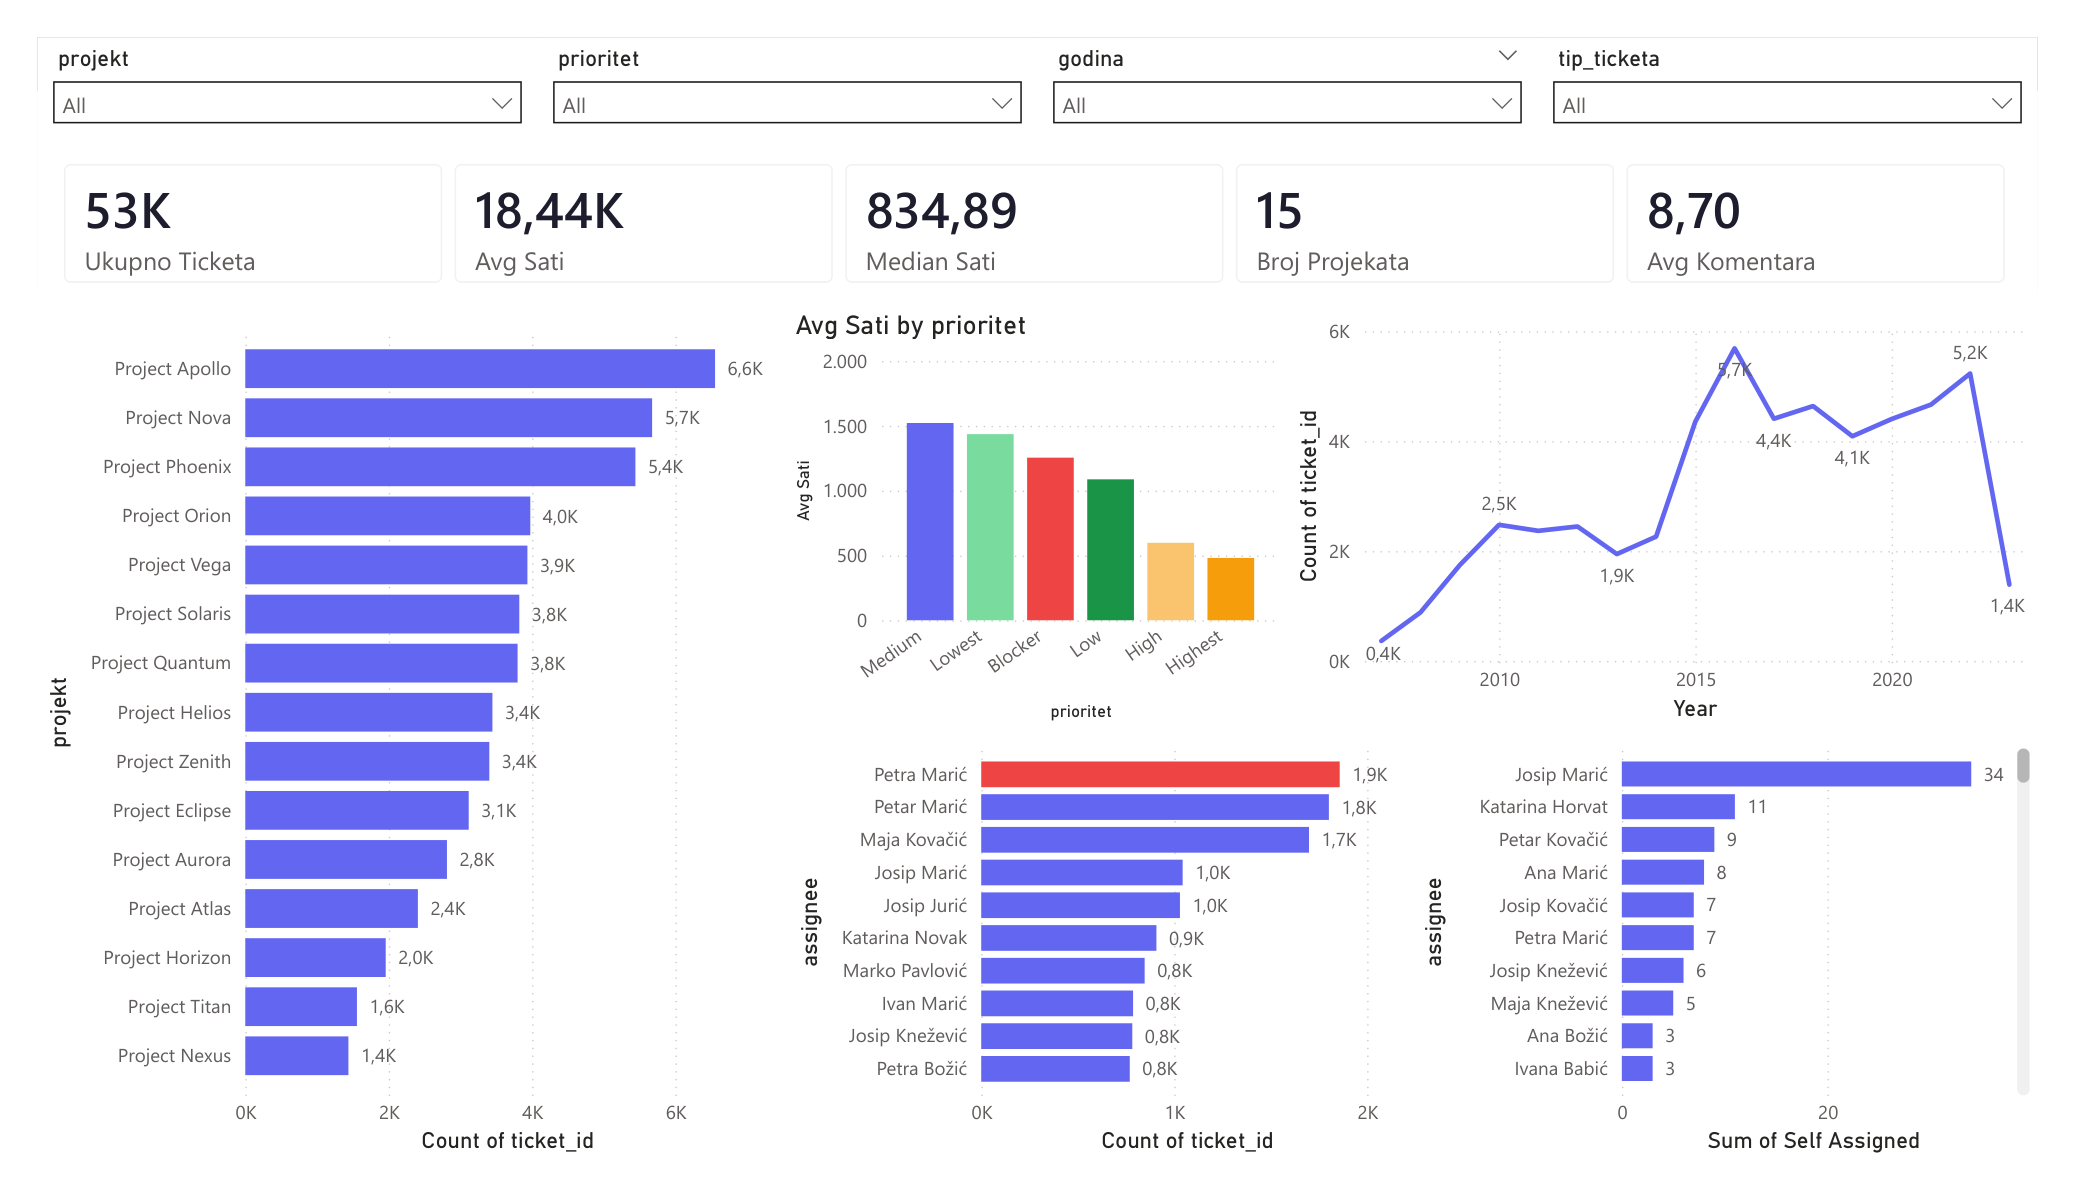

The dashboard page shown, as its layout file describes it:
{"tool":"powerbi","page":{"name":"Pregled sustava","canvas":[1280,720],"ordinal":0},"visuals":[{"type":"cardVisual","fields":{"Data":["Query1.Ukupno Ticketa","Query1.Avg Sati","Query1.Median Sati","Query1.Broj Projekata","Query1.Avg Komentara"]},"box":[0,64,1280,109.9],"z":0},{"type":"barChart","fields":{"Category":["Query1.projekt"],"Y":["Count(Query1.ticket_id)"]},"box":[0,173.9,480.6,545.6],"z":1000},{"type":"lineChart","fields":{"Y":["Count(Query1.ticket_id)"],"Category":["fipu_srp.datum_kreiranja.Variation.Date Hierarchy.Year","fipu_srp.datum_kreiranja.Variation.Date Hierarchy.Quarter","fipu_srp.datum_kreiranja.Variation.Date Hierarchy.Month","fipu_srp.datum_kreiranja.Variation.Date Hierarchy.Day"]},"box":[800.4,173.9,479.6,267.8],"z":2000},{"type":"clusteredColumnChart","fields":{"Y":["Query1.Avg Sati"],"Category":["Query1.prioritet"]},"box":[479.6,173.9,320.7,267.8],"z":3000},{"type":"barChart","fields":{"Category":["Query1.assignee"],"Y":["CountNonNull(Query1.ticket_id)"]},"box":[480.6,441.7,399.7,277.8],"z":4000},{"type":"slicer","fields":{"Values":["Query1.projekt"]},"box":[0,0,320,64.2],"z":5000},{"type":"slicer","fields":{"Values":["Query1.prioritet"]},"box":[320,0,320,64.2],"z":6000},{"type":"slicer","fields":{"Values":["Query1.godina"]},"box":[640,0,320,64.2],"z":7000},{"type":"slicer","fields":{"Values":["Query1.tip_ticketa"]},"box":[960,0,320,64.2],"z":8000},{"type":"barChart","fields":{"Category":["Query1.assignee"],"Y":["Sum(Query1.Self Assigned)"]},"box":[880.3,441.7,399.7,277.8],"z":9000}]}

Visuals, with their boxes on the page's 1280x720 design canvas (x1, y1, x2, y2). These are canvas units, not pixel positions in the 2075x1200 screenshot, which may show the page scaled, cropped or inside an application window:
cardVisual - Query1.Ukupno Ticketa x Query1.Avg Sati: {"x1": 0, "y1": 64, "x2": 1280, "y2": 174}
barChart - Query1.projekt x Count(Query1.ticket_id): {"x1": 0, "y1": 174, "x2": 481, "y2": 720}
lineChart - Count(Query1.ticket_id) x fipu_srp.datum_kreiranja.Variation.Date Hierarchy.Year: {"x1": 800, "y1": 174, "x2": 1280, "y2": 442}
clusteredColumnChart - Query1.Avg Sati x Query1.prioritet: {"x1": 480, "y1": 174, "x2": 800, "y2": 442}
barChart - Query1.assignee x CountNonNull(Query1.ticket_id): {"x1": 481, "y1": 442, "x2": 880, "y2": 720}
slicer - Query1.projekt: {"x1": 0, "y1": 0, "x2": 320, "y2": 64}
slicer - Query1.prioritet: {"x1": 320, "y1": 0, "x2": 640, "y2": 64}
slicer - Query1.godina: {"x1": 640, "y1": 0, "x2": 960, "y2": 64}
slicer - Query1.tip_ticketa: {"x1": 960, "y1": 0, "x2": 1280, "y2": 64}
barChart - Query1.assignee x Sum(Query1.Self Assigned): {"x1": 880, "y1": 442, "x2": 1280, "y2": 720}
